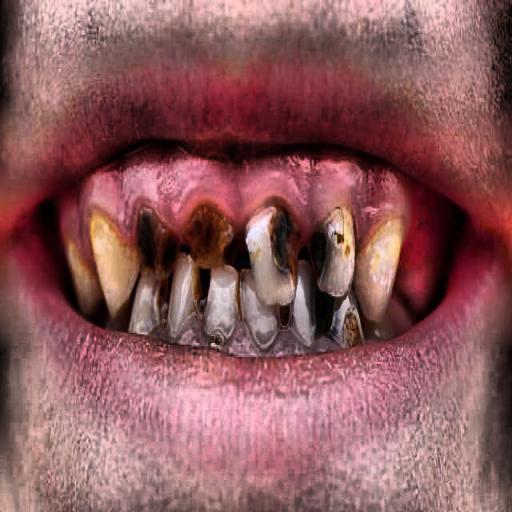Caries: (114, 190, 386, 340)
